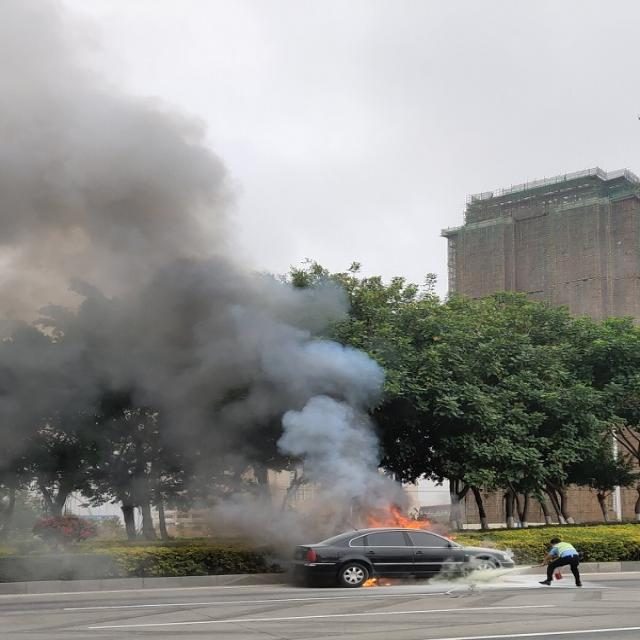Fire: (378, 504, 429, 531)
Smoke: (2, 267, 378, 542), (0, 0, 236, 262)
